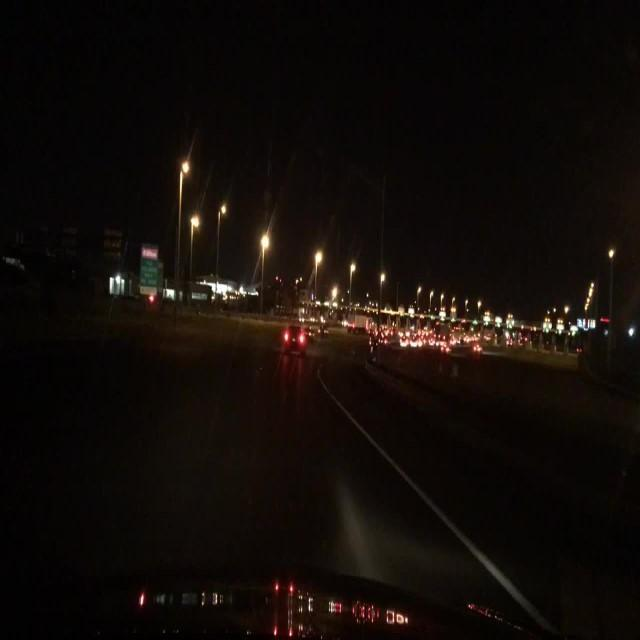normal: (238, 294, 323, 360)
